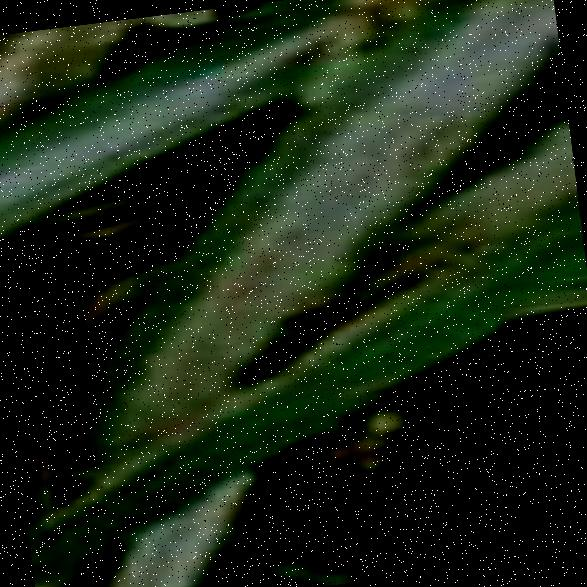Bacteria_Leaf_Blight: (114, 0, 587, 367)
